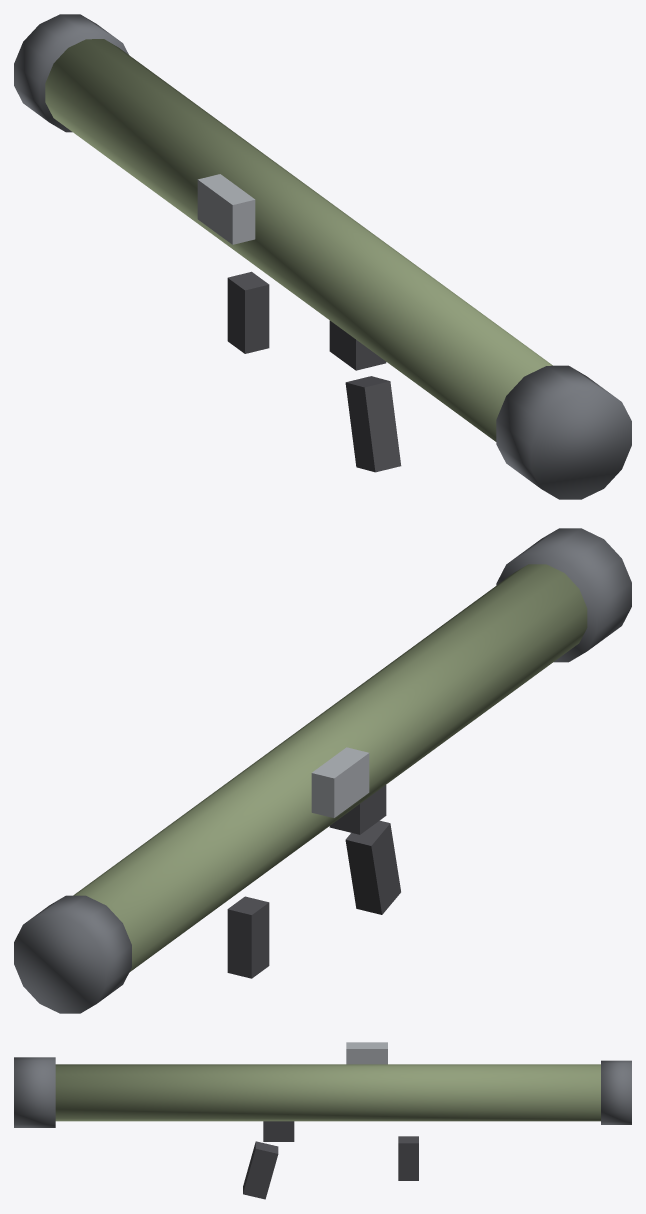
The model's file is launcher_held.gltf.
3 renders of one model, top to bottom at view 1: azimuth 30°, elevation 25°; view 2: azimuth 150°, elevation 25°; view 3: azimuth 270°, elevation 25°, orthographic. The views are drawn at different scales.
Parts seen in each view (by area): view 1: launcher_held; view 2: launcher_held; view 3: launcher_held.
Boxes of the visible parts, x1,y1,x2,y2 form: launcher_held: [14, 14, 631, 499]; launcher_held: [14, 528, 631, 1013]; launcher_held: [14, 1042, 631, 1199].
Bounding box in the file's own units: 0.1563 × 0.287 × 1.19.
